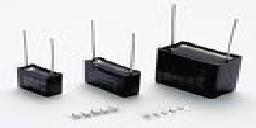Electrolytic-Capacitor: (156, 2, 250, 99), (82, 18, 143, 100), (13, 24, 64, 98)
